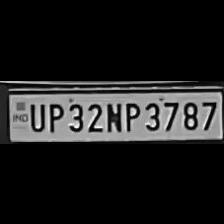2: (84, 98, 104, 132)
3: (64, 98, 84, 132), (140, 98, 160, 132)
7: (160, 97, 178, 131), (200, 97, 218, 130)
8: (179, 97, 199, 130)
N: (104, 98, 120, 132)
P: (44, 100, 64, 132), (122, 98, 140, 132)
U: (26, 100, 44, 132)
